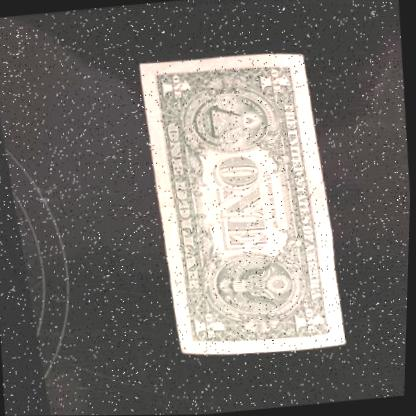one-back: (122, 43, 353, 364)
